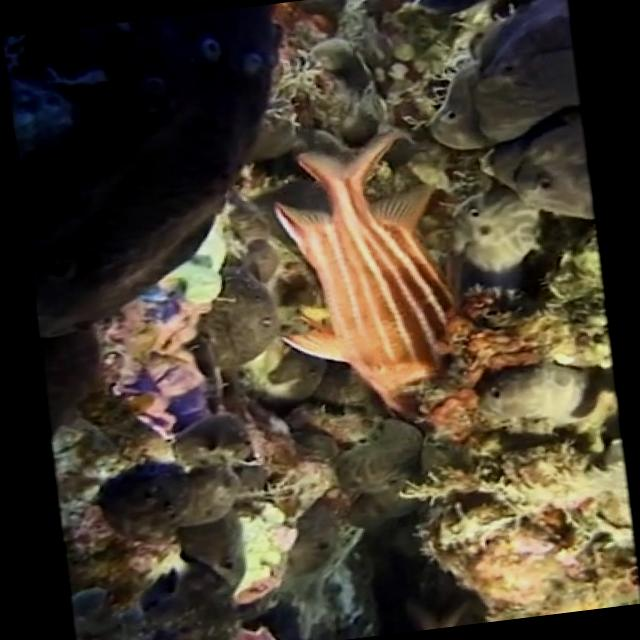Asker Baligi: (256, 123, 475, 437)
